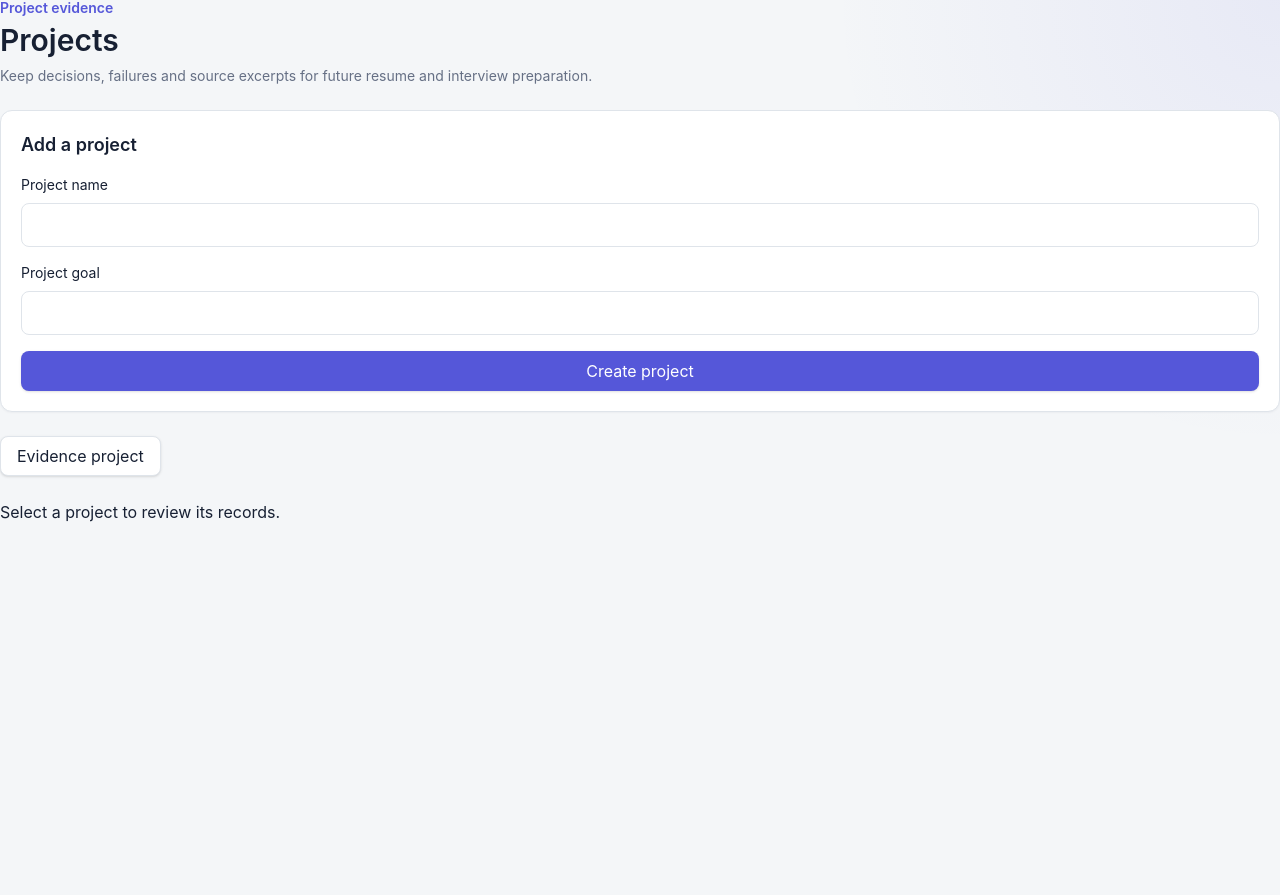
Scenario: ProjectsManager › shows withdrawn history without a confirm or withdraw action
Click the button "Evidence project": (80, 456) 0,436 -> 161,476
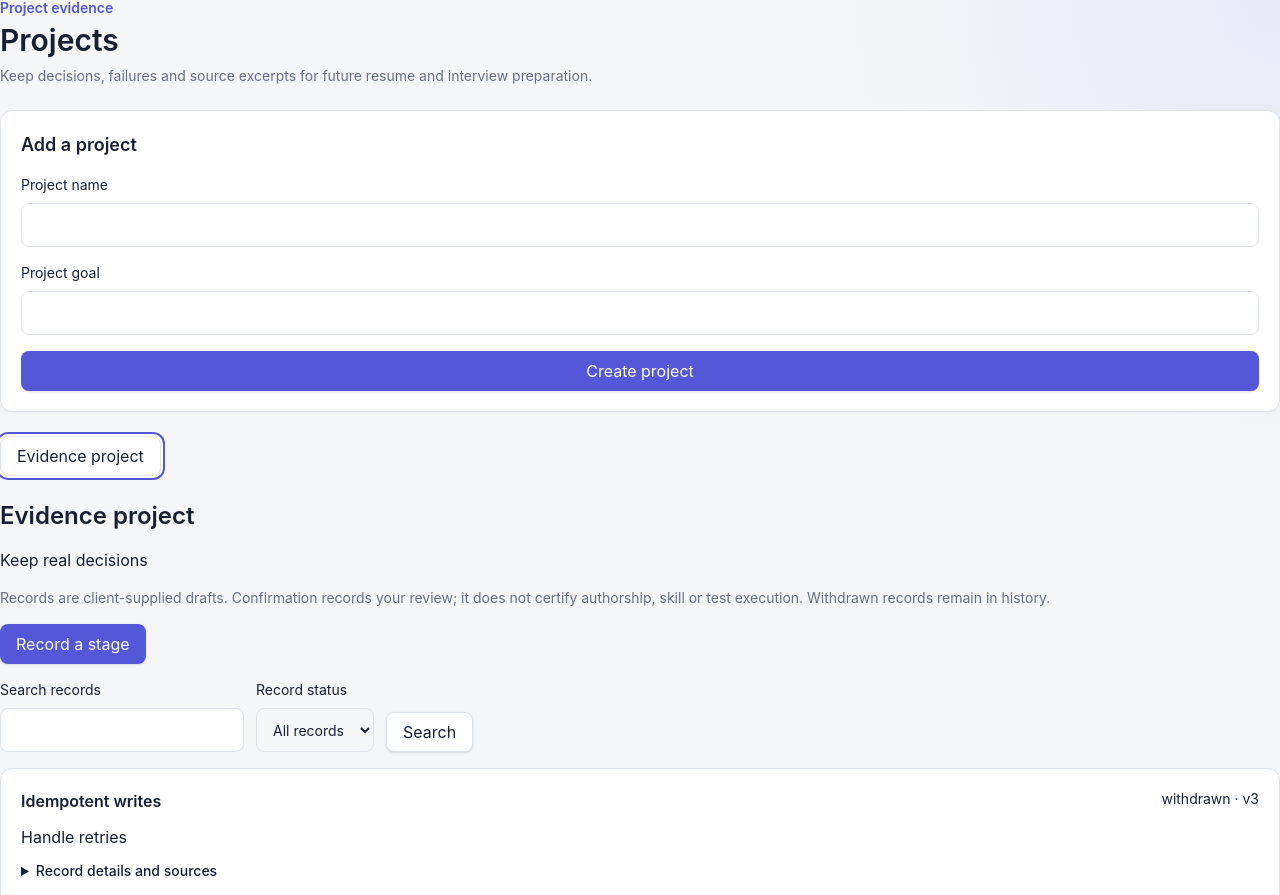
Click the heading "Record details and sources": (126, 870) 36,862 -> 217,879
(page scrolled)
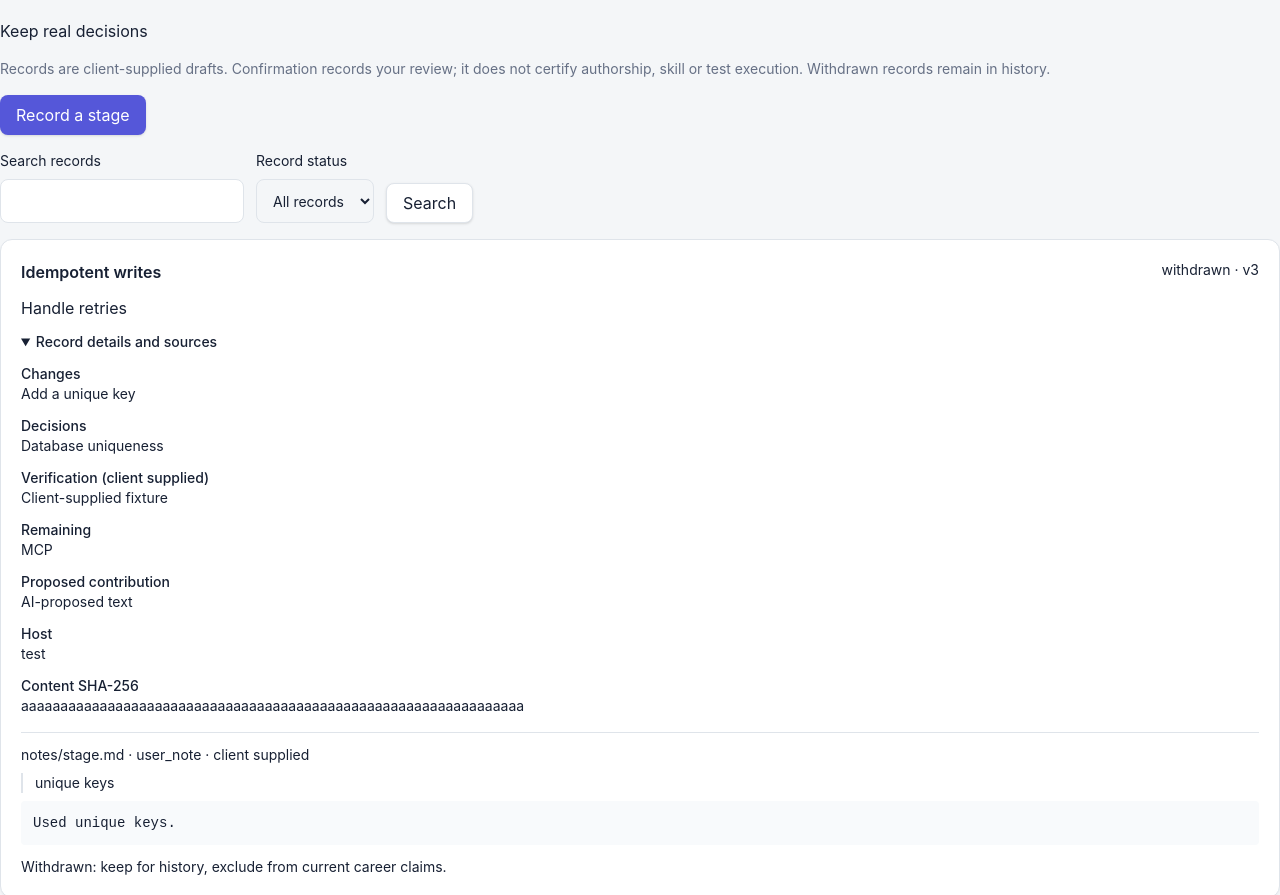
expect the text "unique keys" is shown: met, box 21,773 -> 1259,793
